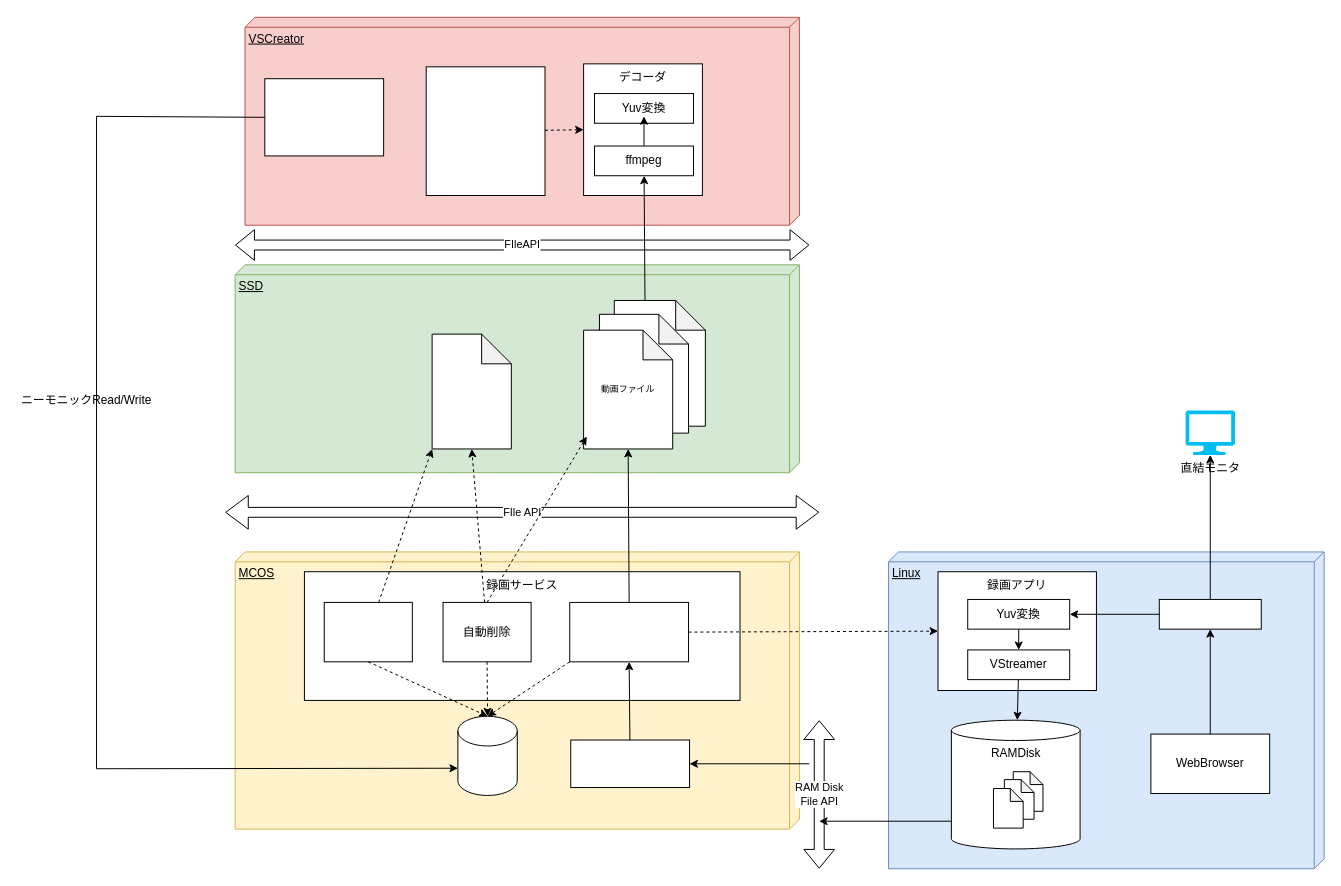
Image size: 1341x886. Some labels were removed from this diagram. The centre of each missing label's shape, as x and y in pixels:
FrameBuffer: [1209,613]
イベント ロガー: [367,631]
イベント ログ: [471,391]
ファイルアクセサ: [630,763]
動画ビューワ: [485,131]
設定UI: [324,117]
録画 設定: [487,755]
録画制御 ファイル転送 （RAMDisk→SSD): [629,631]
